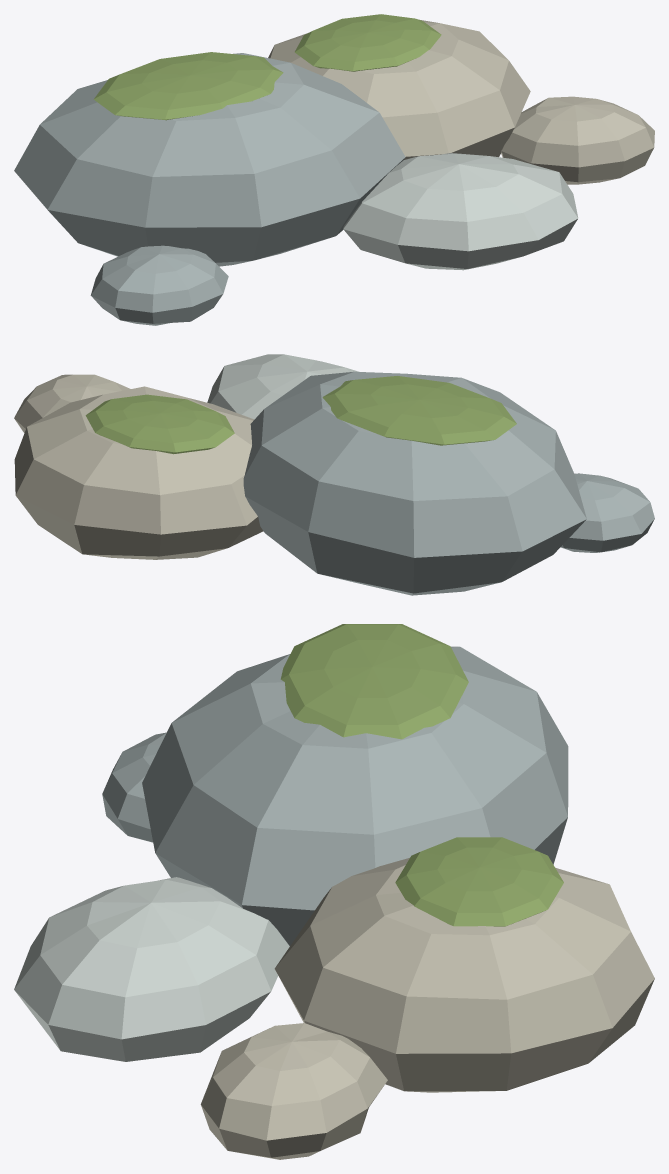
The model's file is lake_bank_stones.glb.
3 views of the same model, one above another, from view 1: azimuth 30°, elevation 25°; view 2: azimuth 150°, elevation 25°; view 3: azimuth 270°, elevation 25° (orthographic). The views are drawn at different scales.
Parts seen in each view (by area): view 1: lake_bank_stones; view 2: lake_bank_stones; view 3: lake_bank_stones.
Part boxes in pixels (x1,y1,x2,y2): lake_bank_stones: [14, 14, 654, 325]; lake_bank_stones: [14, 354, 654, 595]; lake_bank_stones: [14, 624, 654, 1159].
Size of the model in its own units: 1.41 by 0.375 by 0.9565.
